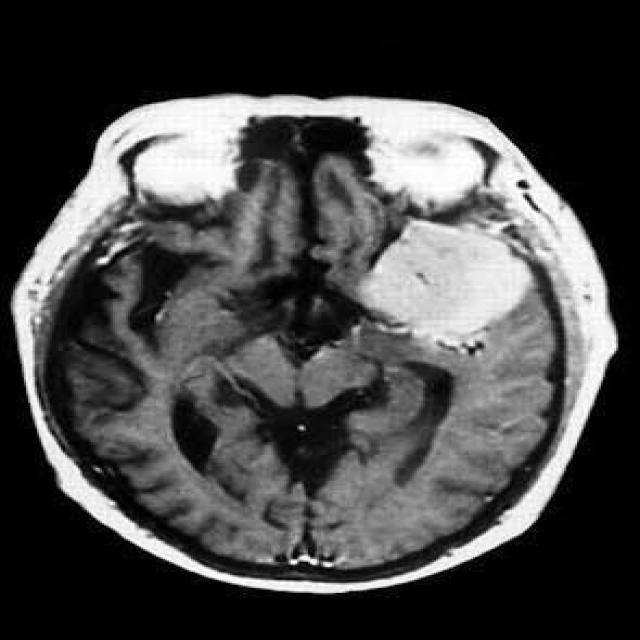Tumor: (358, 221, 536, 343)
